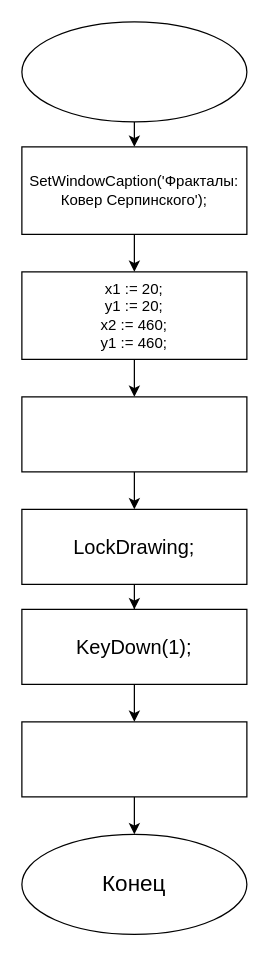
Some shapes in this 269 by 956 pixel diagram are drawn without their labels. The shapes that lost their labels are listed below. From the top down, each one's centre as x and y in pixels, then its label:
At point (134, 71): "Начало".
At point (134, 434): "n := round((x2 - x1) / (3 * 3 * 3));".
At point (134, 759): "OnKeyDown += KeyDown;".
